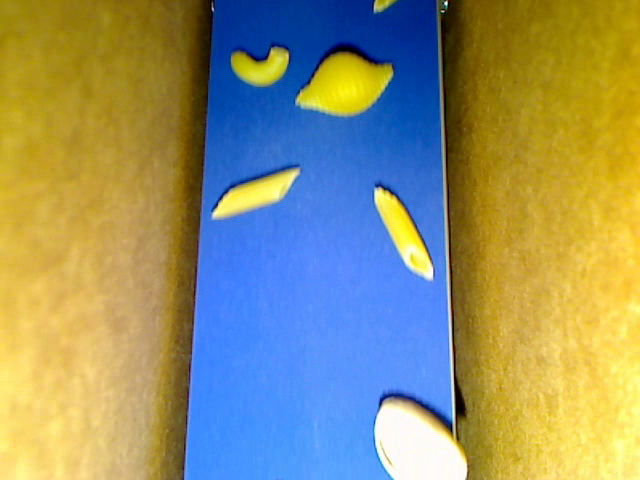elbow: (230, 44, 289, 88)
penne: (372, 186, 433, 282), (211, 166, 301, 220)
shell: (294, 51, 394, 115)
